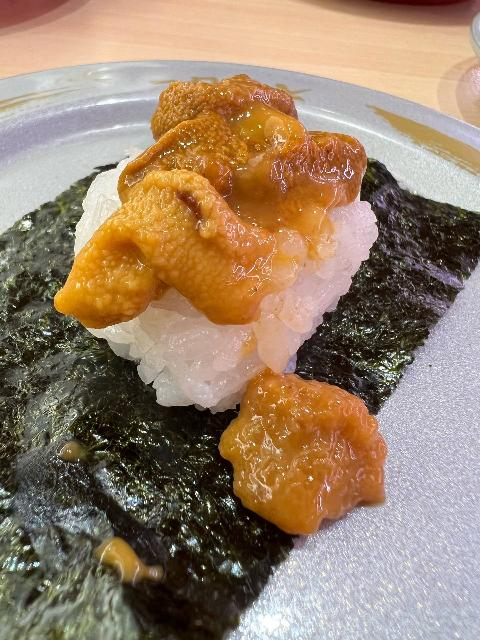janwhite: (8, 62, 480, 640)
